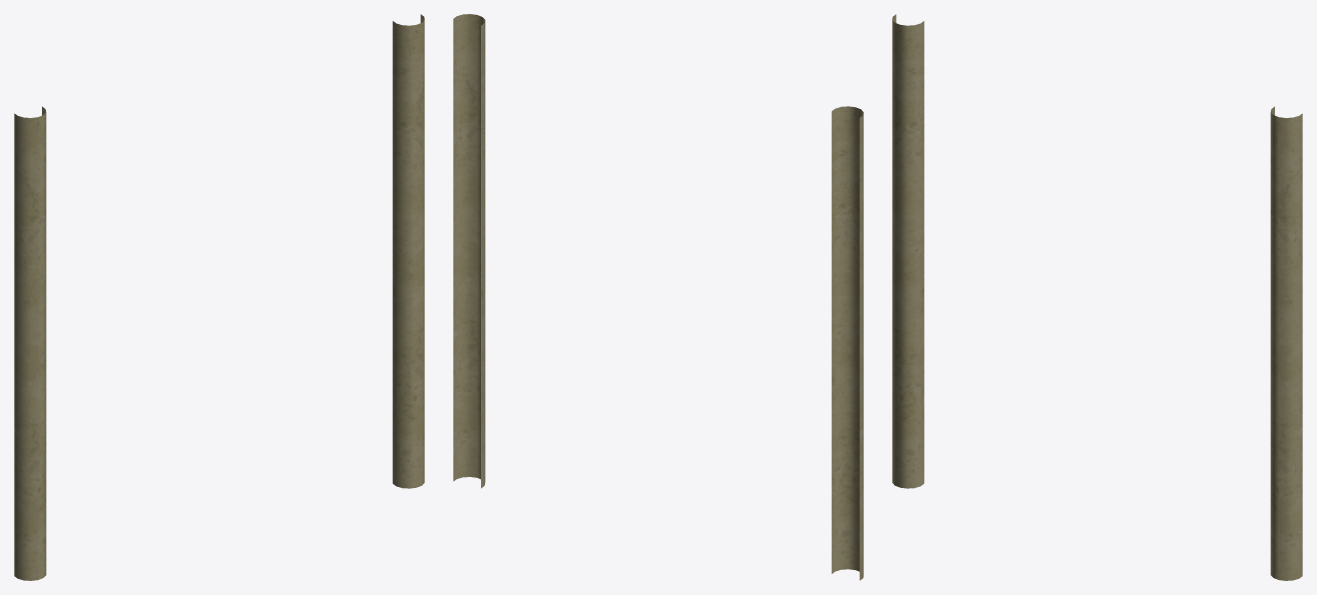
The model's file is Trim_FirstFloor_Window_Columns.gltf.
The picture shows the model from 3 angles, left to right: view 1: azimuth 30°, elevation 25°; view 2: azimuth 150°, elevation 25°; view 3: azimuth 330°, elevation 25°; orthographic projection.
Parts seen in each view (by area): view 1: Trim_FirstFloor_Window_Columns; view 2: Trim_FirstFloor_Window_Columns; view 3: Trim_FirstFloor_Window_Columns.
Boxes of the visible parts, x1,y1,x2,y2 form: Trim_FirstFloor_Window_Columns: (14, 14, 424, 580); Trim_FirstFloor_Window_Columns: (453, 14, 863, 580); Trim_FirstFloor_Window_Columns: (892, 14, 1302, 580).
Size of the model in its own units: 2.15 by 2.34 by 0.0921.
1 material, 1 textured.
